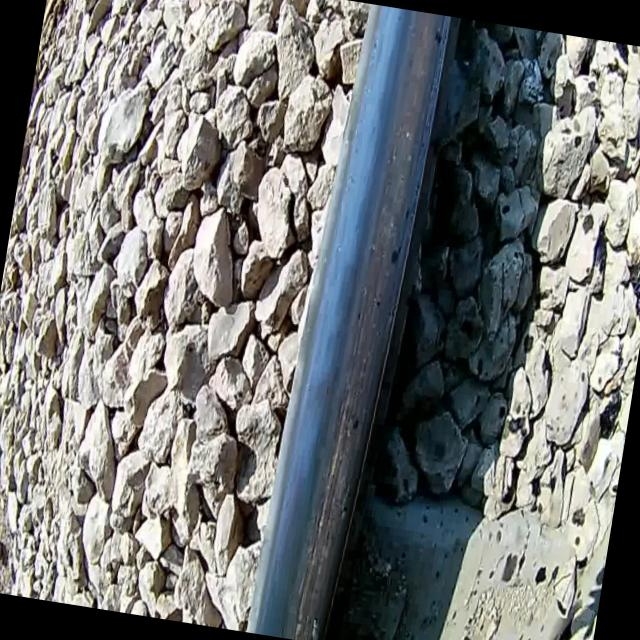Grooves: (288, 121, 411, 640)
